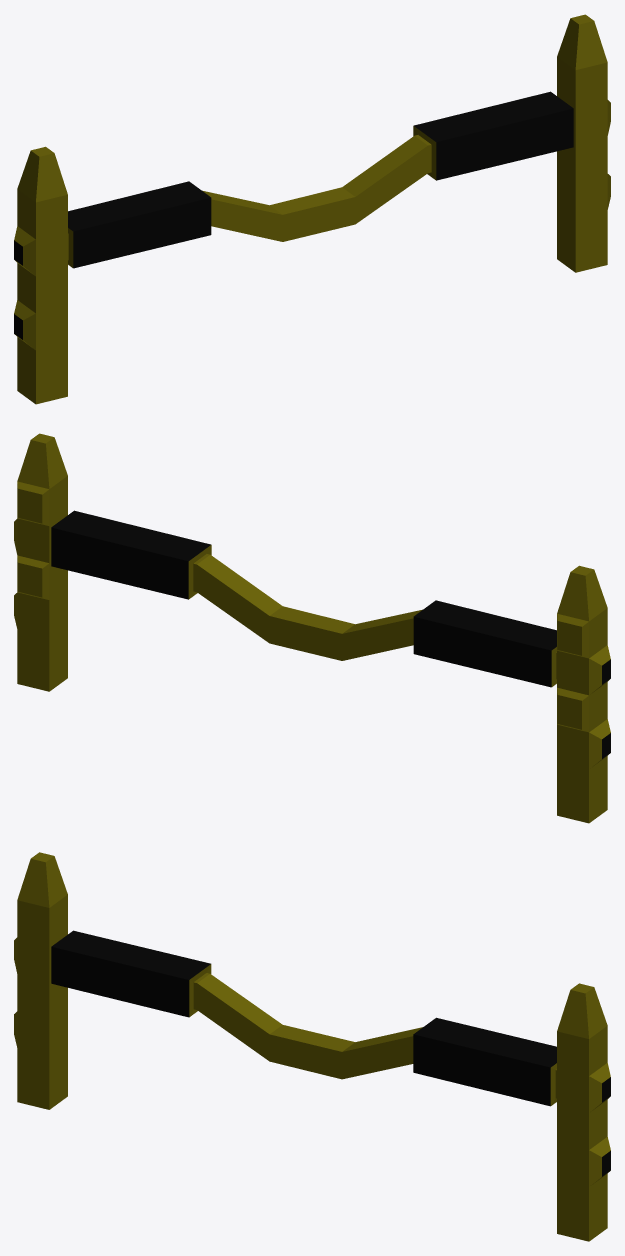
The model's file is grid_barrier.fbx.
3 renders of one model, top to bottom at view 1: azimuth 30°, elevation 25°; view 2: azimuth 150°, elevation 25°; view 3: azimuth 330°, elevation 25°, orthographic.
Parts seen in each view (by area): view 1: barrier; view 2: barrier; view 3: barrier.
Boxes of the visible parts, box(x1,y1,x2,y2) form: barrier: box(14, 14, 610, 404); barrier: box(14, 433, 610, 823); barrier: box(14, 852, 610, 1241).
Size of the model in its own units: 366 by 144 by 25.88.
